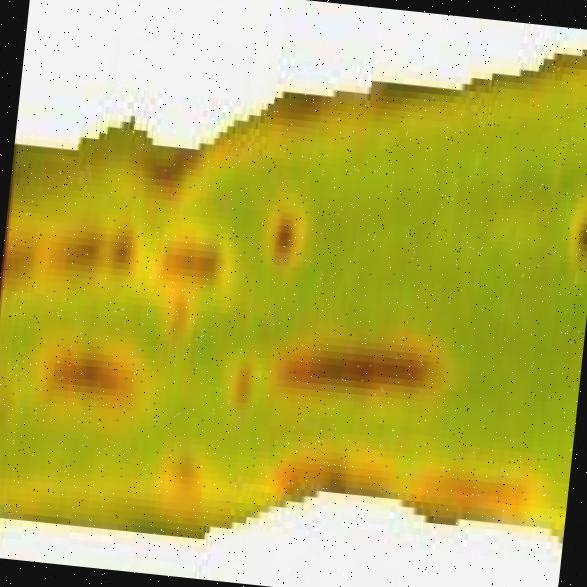Brown_Spot: (27, 280, 168, 434), (1, 210, 232, 293), (274, 319, 449, 390), (248, 156, 329, 276), (561, 148, 587, 290), (228, 321, 256, 403)
